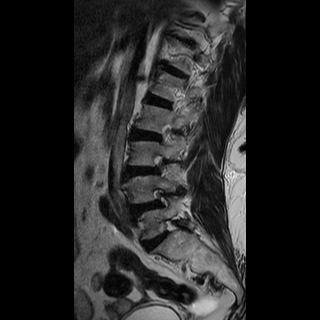RFS1: (148, 182, 172, 212)
